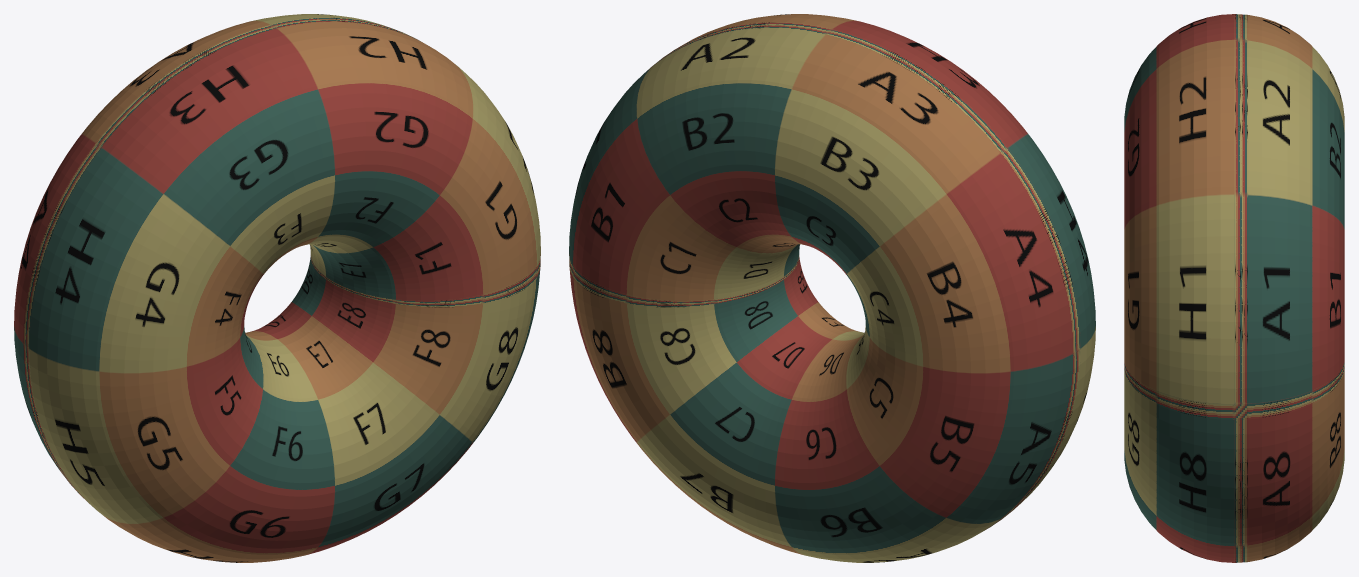
File: texture_torus_R1_r7.glb
3 views of the same model, side by side, from view 1: azimuth 30°, elevation 25°; view 2: azimuth 150°, elevation 25°; view 3: azimuth 270°, elevation 25° (orthographic). The views are drawn at different scales.
Visible parts, largest first — view 1: world; view 2: world; view 3: world.
Part boxes in pixels (x1=…): world: x1=14, y1=14, x2=540, y2=562; world: x1=569, y1=14, x2=1095, y2=562; world: x1=1124, y1=14, x2=1344, y2=562.
Size of the model in its own units: 20.44 by 20.44 by 8.21.
1 material, 1 textured.
